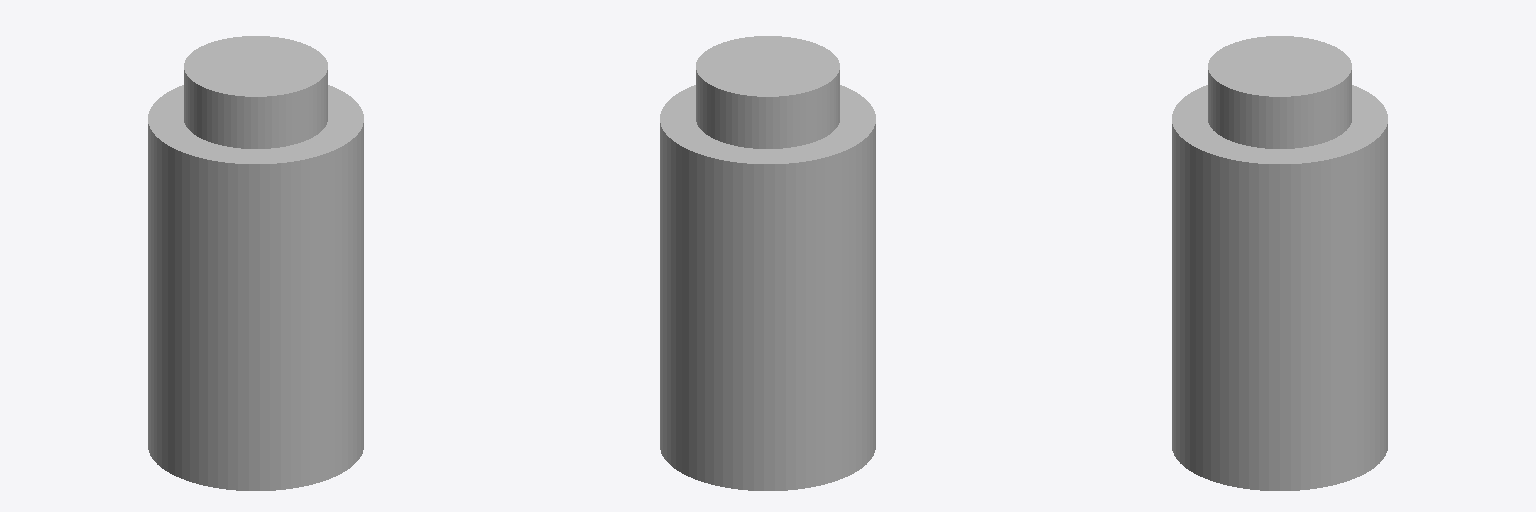
The model's file is plate_contact.obj.
3 renders of one model, left to right at view 1: azimuth 30°, elevation 25°; view 2: azimuth 150°, elevation 25°; view 3: azimuth 270°, elevation 25°, orthographic.
Visible parts, largest first — view 1: Cylinder_Cylinder.001, Cylinder.001_Cylinder.002; view 2: Cylinder_Cylinder.001, Cylinder.001_Cylinder.002; view 3: Cylinder_Cylinder.001, Cylinder.001_Cylinder.002.
Boxes of the visible parts, <box> form: Cylinder_Cylinder.001: <box>148,85,363,490</box>; Cylinder.001_Cylinder.002: <box>184,36,327,148</box>; Cylinder_Cylinder.001: <box>660,85,875,490</box>; Cylinder.001_Cylinder.002: <box>696,36,839,148</box>; Cylinder_Cylinder.001: <box>1172,85,1387,490</box>; Cylinder.001_Cylinder.002: <box>1208,36,1351,148</box>.
Size of the model in its own units: 0.15 by 0.29 by 0.15.